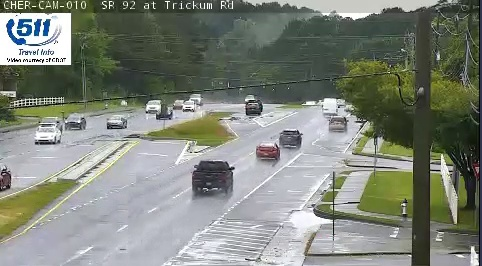car: (192, 160, 233, 189), (278, 129, 301, 147), (256, 143, 279, 160), (329, 116, 347, 132)
van: (322, 97, 337, 120)
